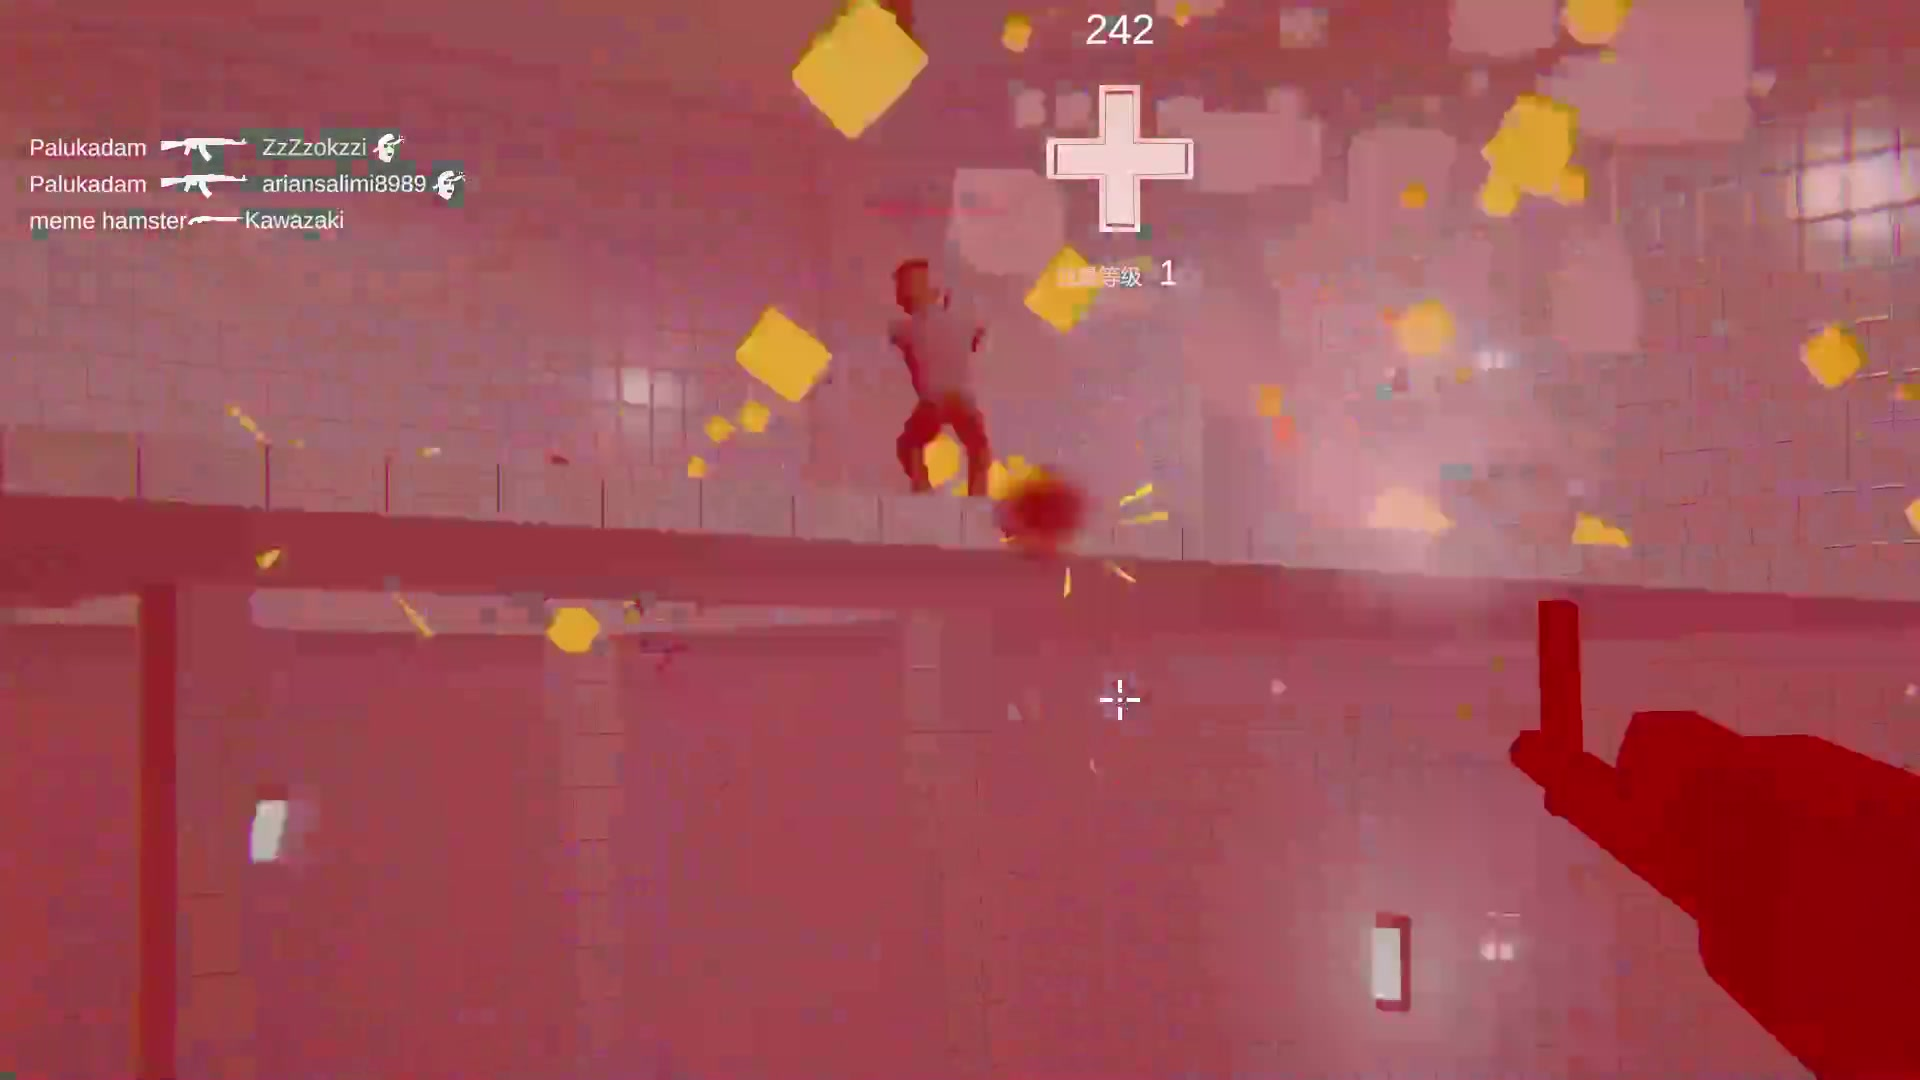human: (877, 253, 997, 492)
